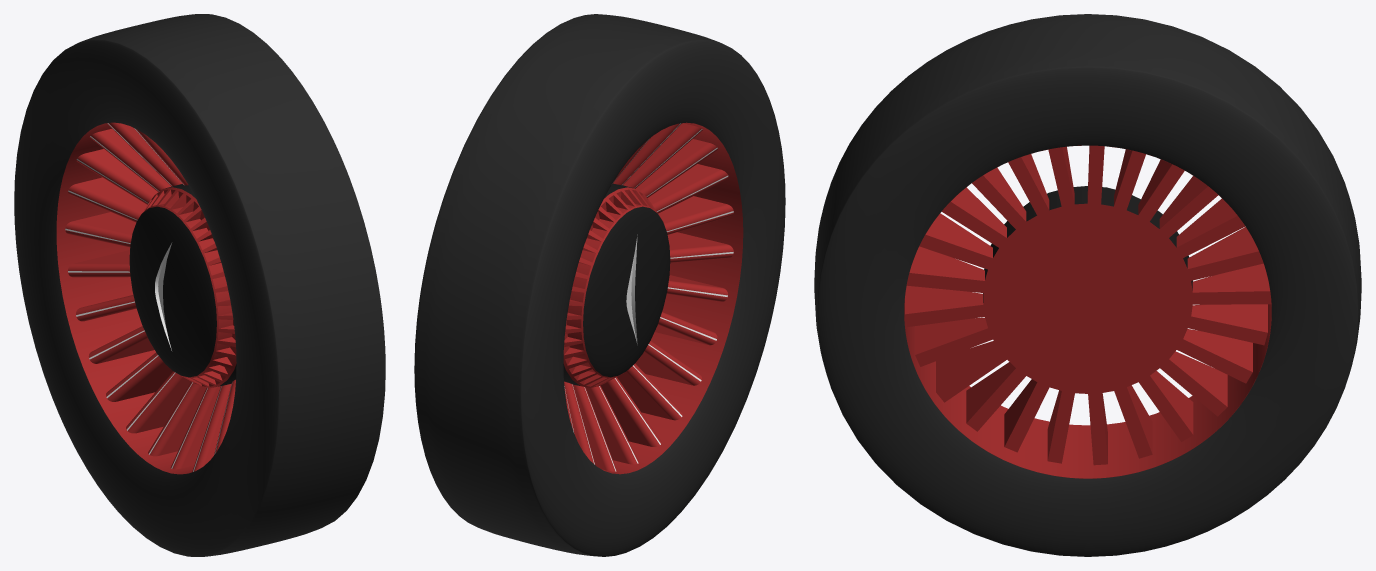
The model's file is fleetwood_tires v2.fbx.
3 renders of one model, left to right at view 1: azimuth 30°, elevation 25°; view 2: azimuth 150°, elevation 25°; view 3: azimuth 270°, elevation 25°, orthographic. The views are drawn at different scales.
Parts seen in each view (by area): view 1: Body1; view 2: Body1; view 3: Body1.
Boxes of the visible parts, x1=… form: Body1: x1=14, y1=14, x2=385, y2=556; Body1: x1=414, y1=14, x2=785, y2=556; Body1: x1=814, y1=14, x2=1361, y2=556.
Bounding box in the file's own units: 26.81 × 104 × 104.
